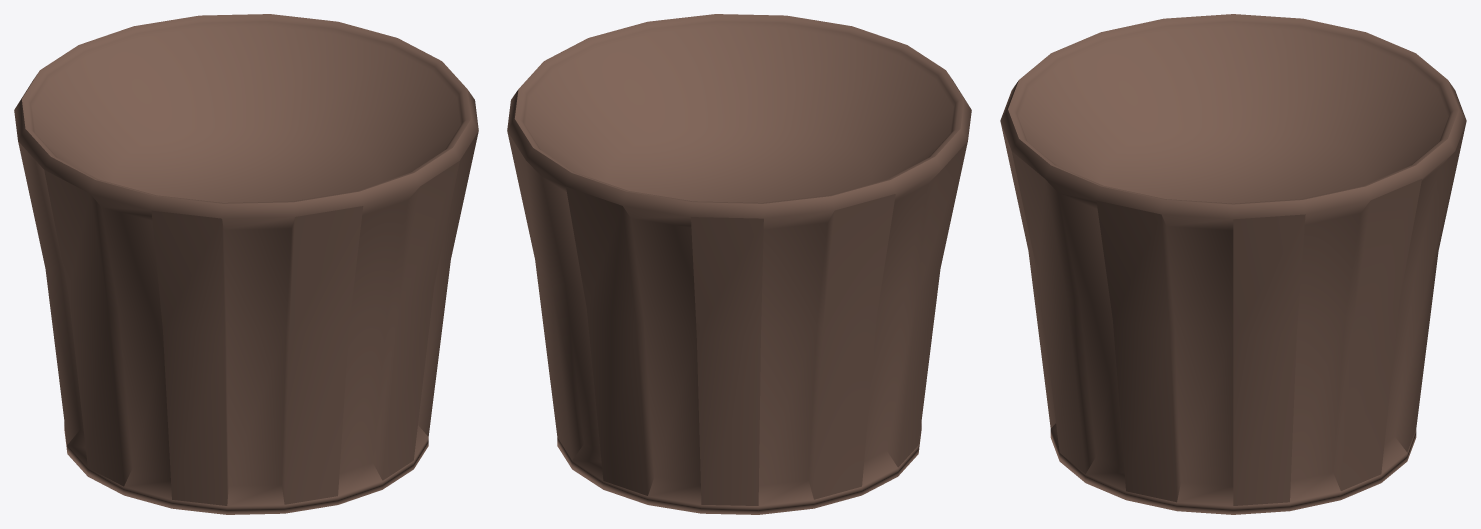
The model's file is Cratepot_Model_V01.fbx.
The picture shows the model from 3 angles, left to right: view 1: azimuth 30°, elevation 25°; view 2: azimuth 150°, elevation 25°; view 3: azimuth 270°, elevation 25°; orthographic projection.
Visible parts, largest first — view 1: roundpot; view 2: roundpot; view 3: roundpot.
Boxes of the visible parts, box(x1,y1,x2,y2) form: roundpot: box(14, 14, 478, 514); roundpot: box(507, 14, 971, 514); roundpot: box(1000, 14, 1466, 514).
Bounding box in the file's own units: 108 × 83.55 × 108.
1 material, 1 textured.
